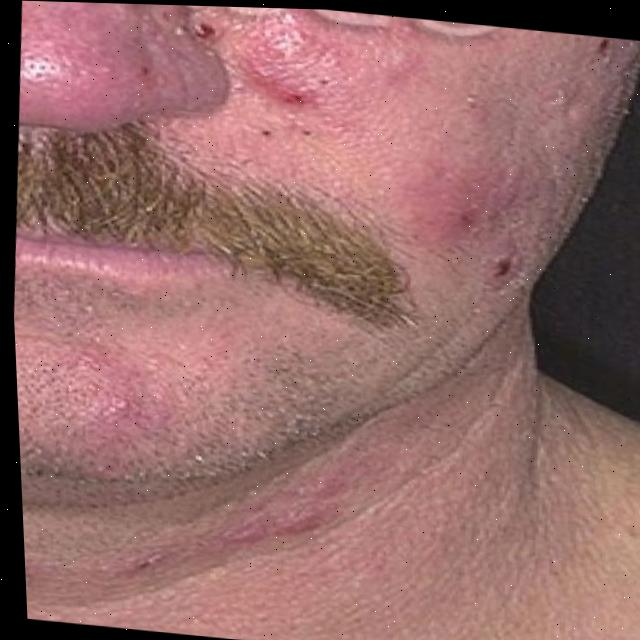Rosacea: (229, 7, 549, 262)
